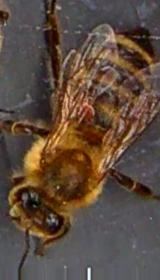varroa_mite: (75, 91, 103, 130)
